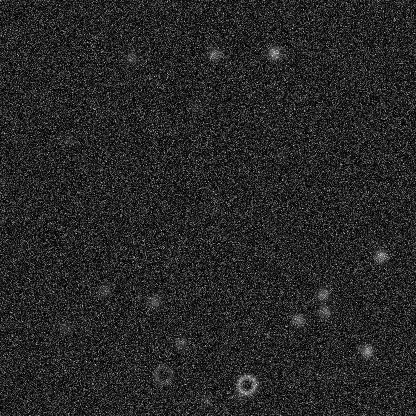Ring: (150, 362, 174, 386), (234, 372, 258, 396)
Spot: (146, 293, 162, 309), (56, 318, 72, 334), (172, 335, 188, 351), (206, 46, 222, 62), (95, 282, 111, 298), (230, 387, 246, 403), (358, 343, 374, 359), (124, 49, 140, 65), (316, 303, 332, 319), (265, 45, 281, 61), (372, 247, 388, 263), (290, 311, 306, 327), (314, 286, 330, 302), (187, 98, 203, 114), (59, 131, 75, 147), (270, 147, 286, 163), (198, 391, 214, 407)
